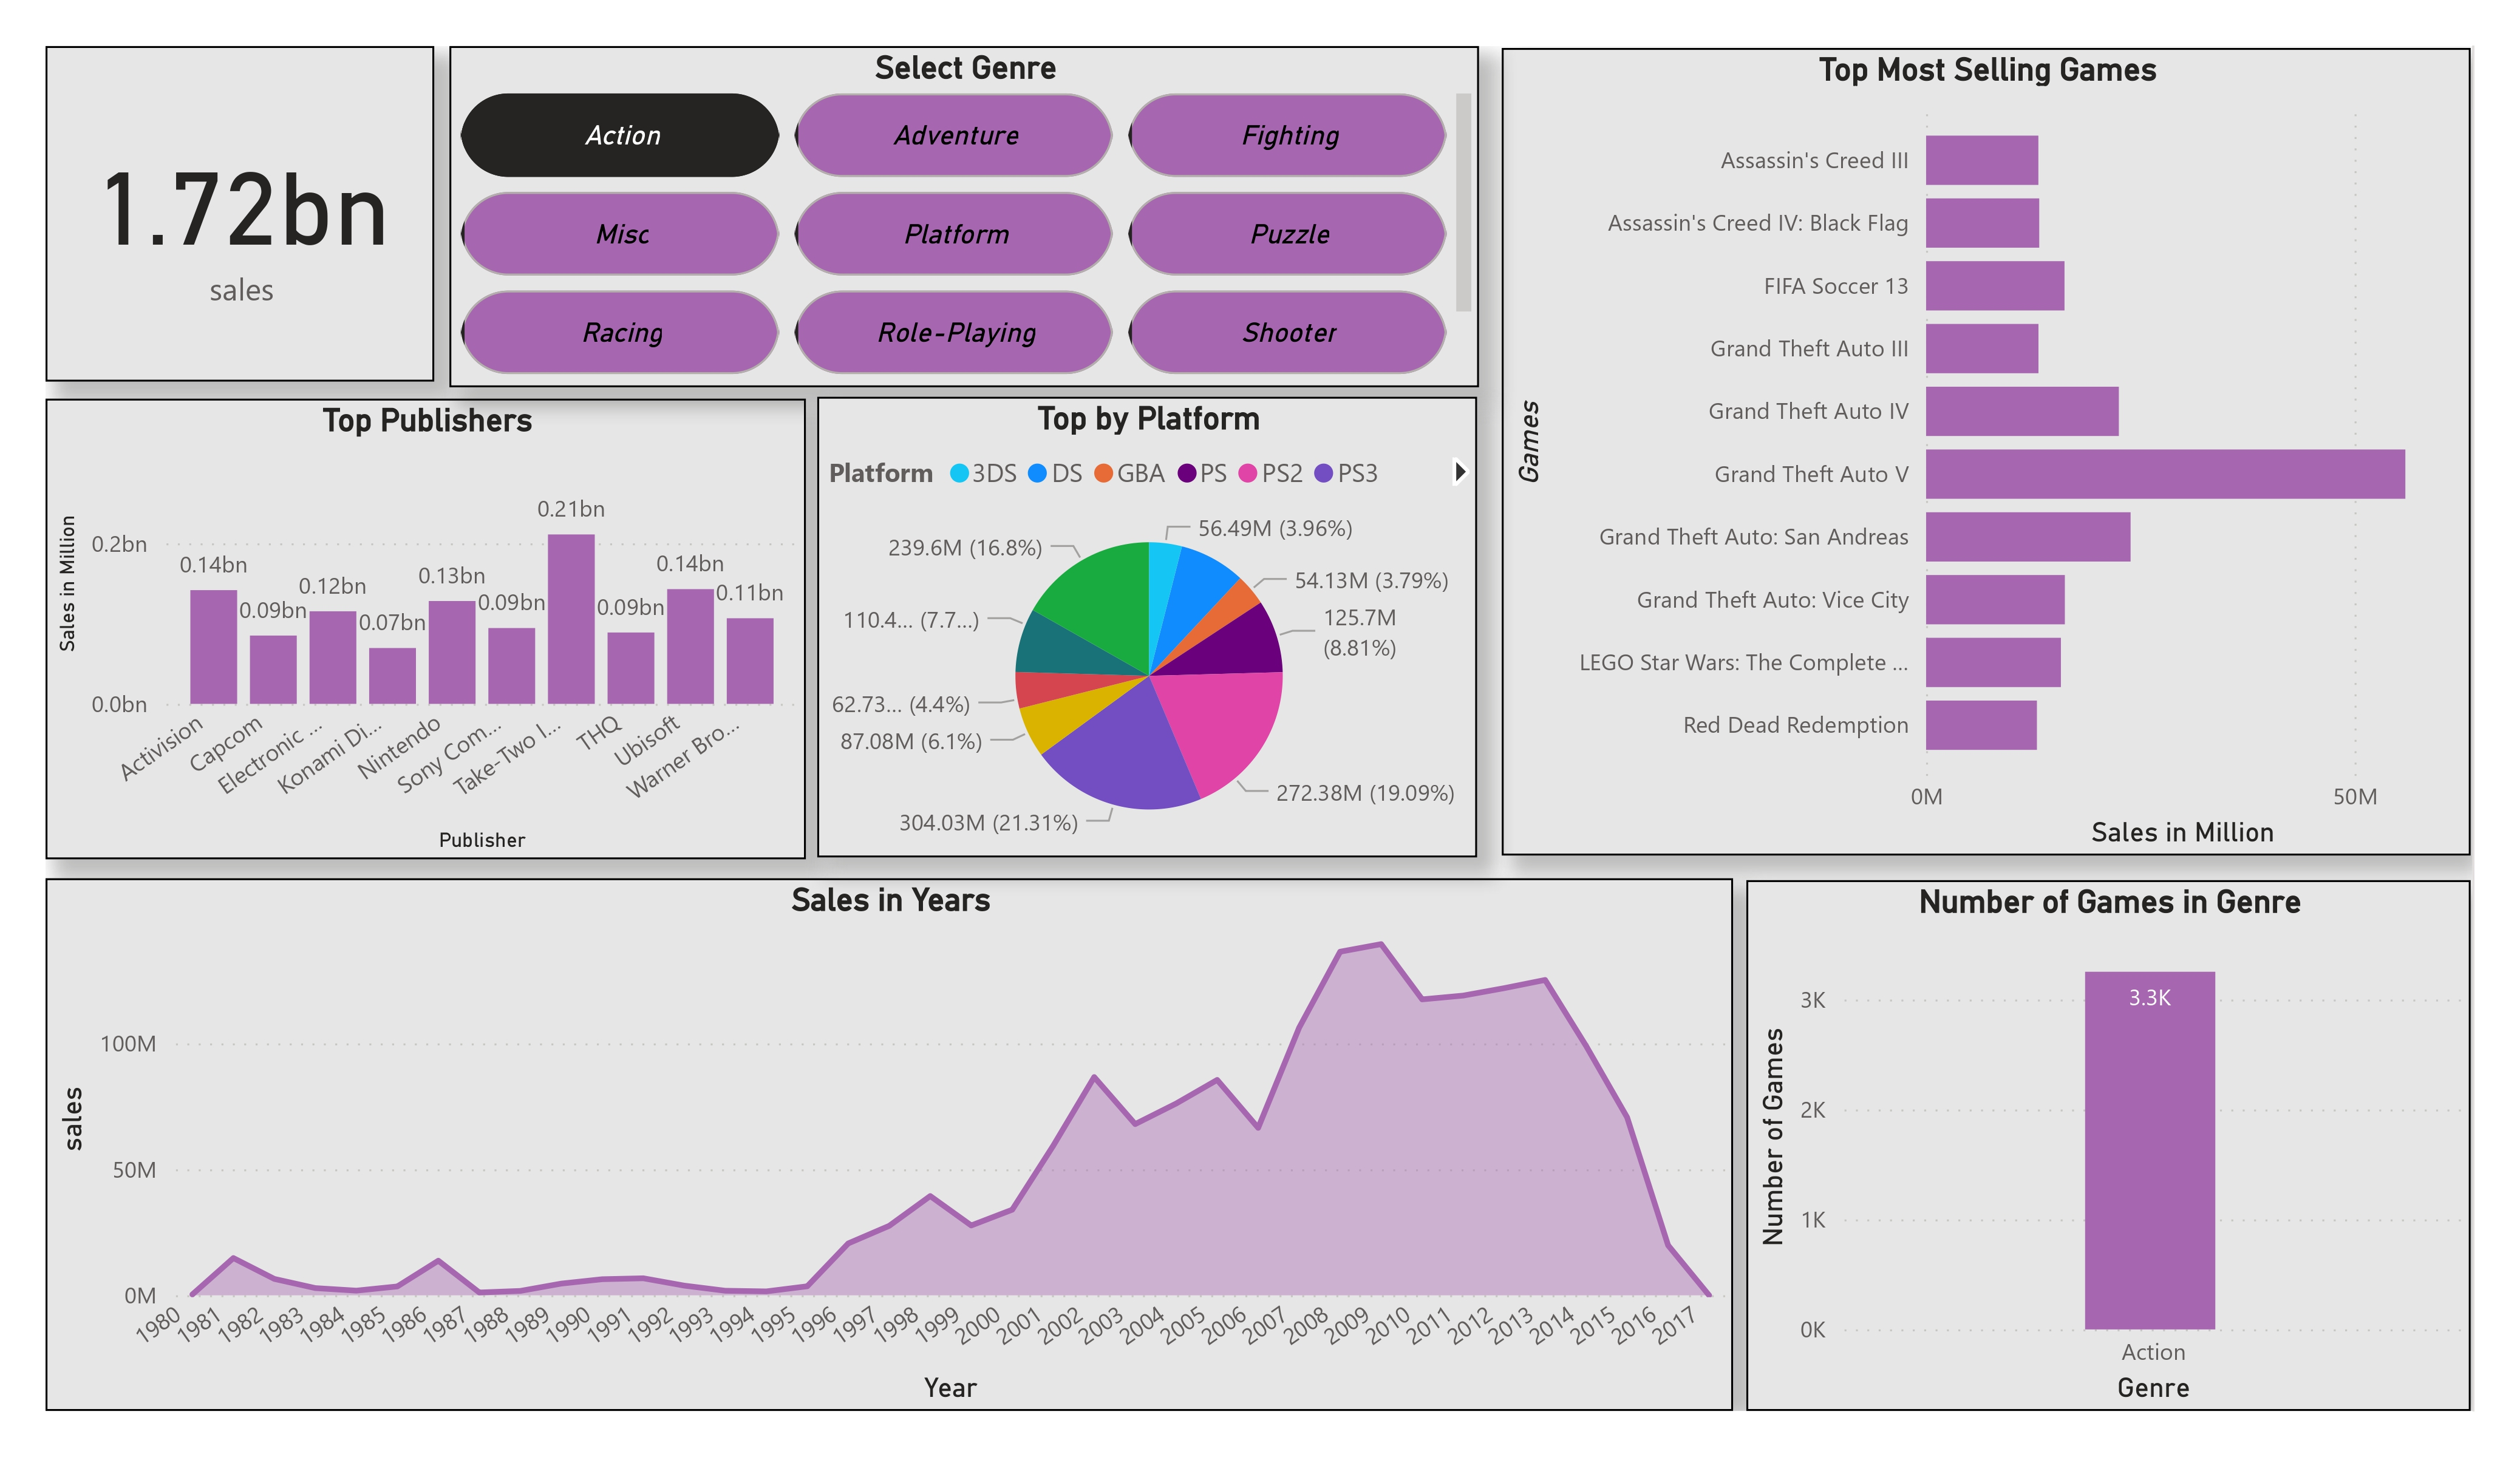

The dashboard page shown, as its layout file describes it:
{"tool":"powerbi","page":{"name":"Page 1","canvas":[1280,720],"ordinal":0},"visuals":[{"type":"barChart","title":"Top Most Selling Games","fields":{"Category":["vgsales.Name"],"Y":["vgsales.sales"]},"box":[767.9,1.1,511.6,426.1],"z":0},{"type":"card","fields":{"Values":["vgsales.sales"]},"box":[0,0,204.6,177.5],"z":1000},{"type":"columnChart","title":"Top Publishers","fields":{"Category":["vgsales.Publisher"],"Y":["vgsales.sales"]},"box":[0,186.3,401.3,243],"z":2000},{"type":"areaChart","title":"Sales in Years","fields":{"Category":["vgsales.Year"],"Y":["vgsales.sales"]},"box":[0,438.6,889.5,281.4],"z":3000},{"type":"advancedSlicerVisual","title":"Select Genre","fields":{"Values":["vgsales.Genre"]},"box":[212.9,0,543.2,179.7],"z":4000},{"type":"pieChart","title":"Top by Platform","fields":{"Category":["vgsales.Platform"],"Y":["vgsales.sales"]},"box":[406.7,185.1,348.1,243],"z":5000},{"type":"columnChart","title":"Number of Games in  Genre","fields":{"Category":["vgsales.Genre"],"Y":["CountNonNull(vgsales.Name)"]},"box":[897.5,440.4,382,279.6],"z":6000}]}

Visuals, with their boxes on the page's 1280x720 design canvas (x1, y1, x2, y2). These are canvas units, not pixel positions in the 2520x1457 screenshot, which may show the page scaled, cropped or inside an application window:
"Top Most Selling Games" barChart: box=[768, 1, 1280, 427]
card - vgsales.sales: box=[0, 0, 205, 178]
"Top Publishers" columnChart: box=[0, 186, 401, 429]
"Sales in Years" areaChart: box=[0, 439, 890, 720]
"Select Genre" advancedSlicerVisual: box=[213, 0, 756, 180]
"Top by Platform" pieChart: box=[407, 185, 755, 428]
"Number of Games in  Genre" columnChart: box=[898, 440, 1280, 720]
